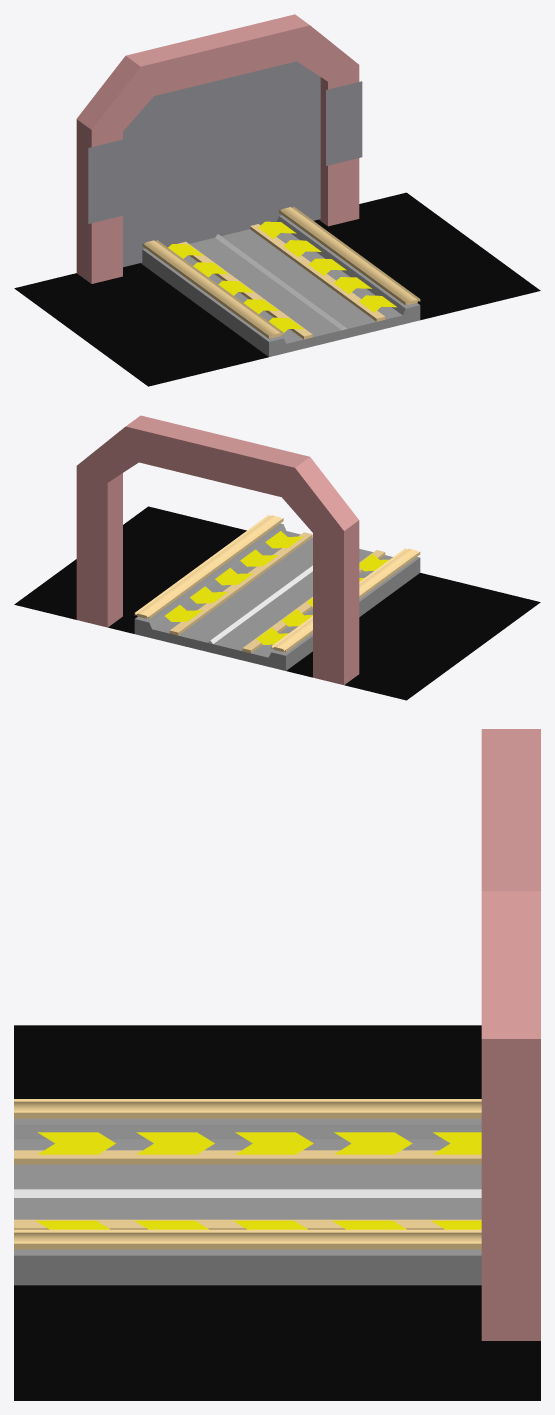
The model's file is station__poort2.glb.
3 renders of one model, top to bottom at view 1: azimuth 30°, elevation 25°; view 2: azimuth 150°, elevation 25°; view 3: azimuth 270°, elevation 25°, orthographic. The views are drawn at different scales.
Parts seen in each view (by area): view 1: lottie_front, _basefloor, Boolean, road, lot__stoplicht--L, lot__stoplicht--R, road__top--right, road__top--left, road__rail--right, road__rail--middle, road__rail--left; view 2: Boolean, _basefloor, road, road__top--right, Shape 0 (×5), road__top--left, road__rail--right, road__rail--middle, road__rail--left; view 3: _basefloor, road, Boolean, road__top--right, road__top--left, Shape 0 (×5), road__rail--left, road__rail--middle, road__rail--right.
Part boxes in pixels (box(x1,y1,x2,y2)): lottie_front: box(123, 61, 320, 267); _basefloor: box(14, 192, 540, 386); Boolean: box(76, 14, 359, 283); road: box(141, 215, 420, 356); lot__stoplicht--L: box(88, 139, 124, 223); lot__stoplicht--R: box(326, 81, 362, 165); road__top--right: box(279, 206, 420, 305); road__top--left: box(142, 240, 283, 338); road__rail--right: box(250, 224, 385, 321); road__rail--middle: box(215, 234, 346, 330); road__rail--left: box(177, 241, 312, 339); Boolean: box(76, 415, 359, 684); _basefloor: box(14, 506, 540, 700); road: box(134, 523, 420, 670); road__top--right: box(134, 515, 283, 619); Shape 0 (×5): box(165, 531, 303, 621); road__top--left: box(271, 548, 420, 652); road__rail--right: box(169, 532, 312, 635); road__rail--middle: box(207, 565, 312, 643); road__rail--left: box(242, 550, 385, 653); _basefloor: box(14, 1025, 540, 1400); road: box(14, 1118, 481, 1285); Boolean: box(481, 729, 540, 1340); road__top--right: box(14, 1229, 481, 1249); road__top--left: box(14, 1099, 481, 1118); Shape 0 (×5): box(37, 1132, 481, 1154); road__rail--left: box(14, 1150, 481, 1164); road__rail--middle: box(14, 1189, 481, 1197); road__rail--right: box(14, 1219, 481, 1229).
Bounding box in the file's own units: 10.8 × 5.4 × 6.4.
